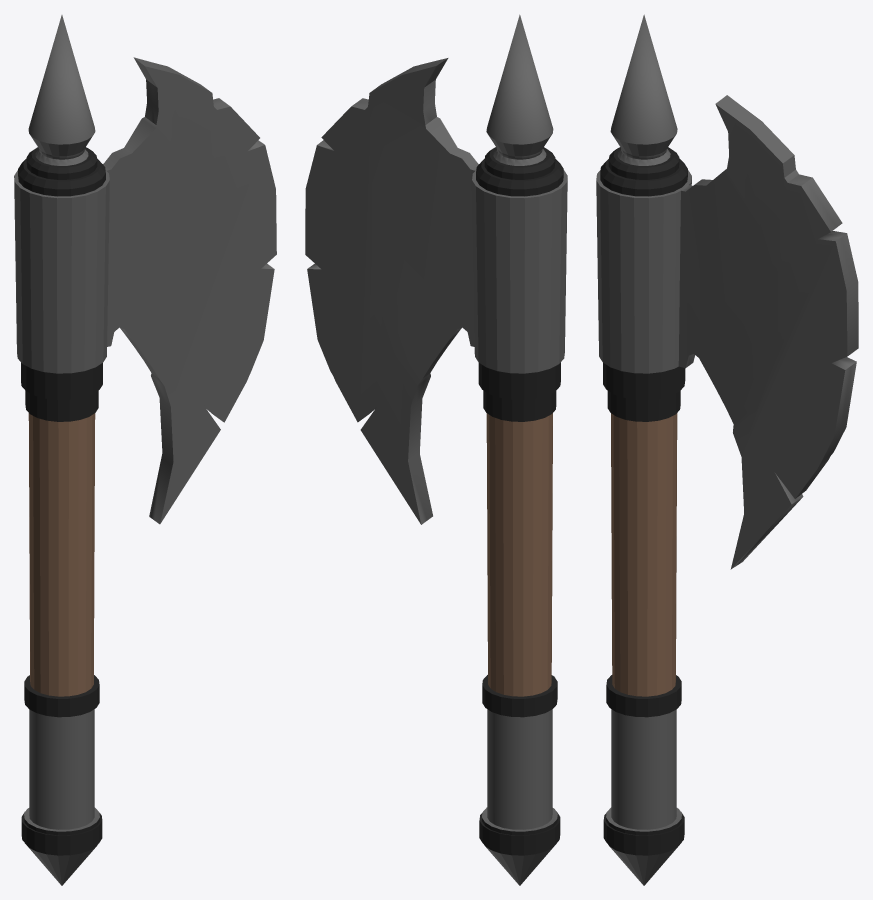
File: Diana_Axe.fbx
The picture shows the model from 3 angles, left to right: view 1: azimuth 30°, elevation 25°; view 2: azimuth 150°, elevation 25°; view 3: azimuth 330°, elevation 25°; orthographic projection.
Visible parts, largest first — view 1: Axe; view 2: Axe; view 3: Axe.
Boxes of the visible parts, x1,y1,x2,y2 form: Axe: (14, 15, 276, 885); Axe: (305, 14, 567, 885); Axe: (596, 14, 858, 885).
Bounding box in the file's own units: 113 × 374 × 37.46.
